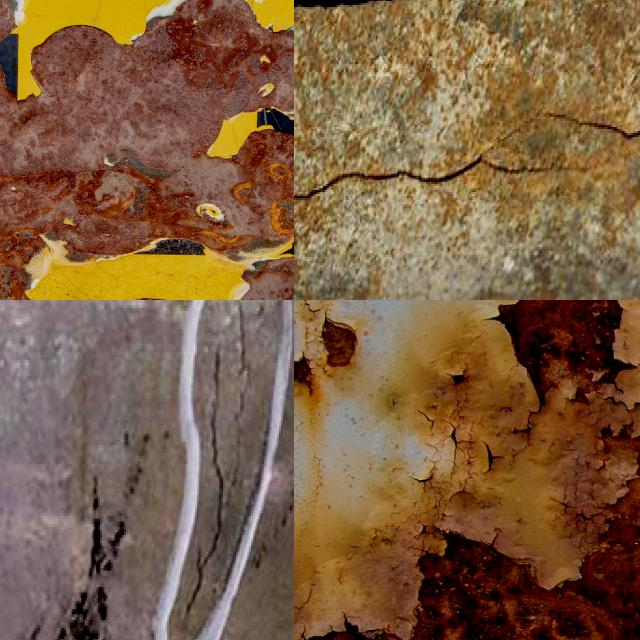Crack: (294, 151, 487, 200), (202, 407, 223, 562), (555, 115, 640, 139), (491, 161, 569, 174), (239, 300, 245, 379)
Pitting Corrosion: (408, 428, 640, 640), (502, 300, 616, 389), (294, 300, 357, 386)
